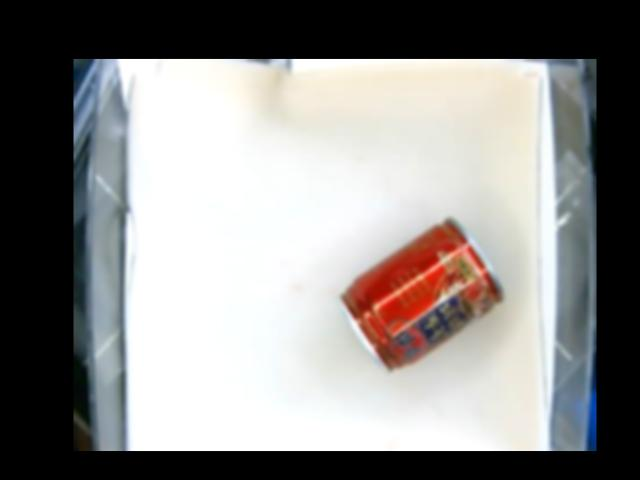Bottle: (336, 217, 506, 371)
